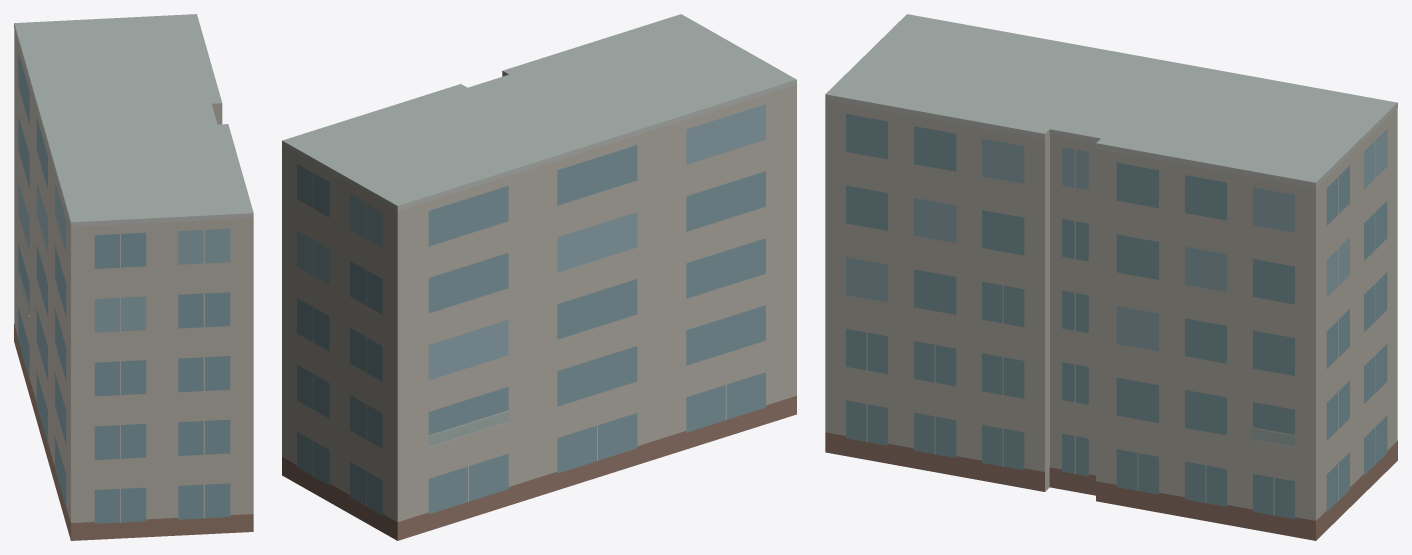
Rendered from survey-upis-32656820.glb.
The picture shows the model from 3 angles, left to right: view 1: azimuth 30°, elevation 25°; view 2: azimuth 150°, elevation 25°; view 3: azimuth 270°, elevation 25°; orthographic projection. The views are drawn at different scales.
Visible parts, largest first — view 1: survey-upis-32656820.tmp; view 2: survey-upis-32656820.tmp; view 3: survey-upis-32656820.tmp.
Part boxes in pixels (x1=…): survey-upis-32656820.tmp: x1=14, y1=14, x2=253, y2=540; survey-upis-32656820.tmp: x1=282, y1=14, x2=796, y2=540; survey-upis-32656820.tmp: x1=825, y1=14, x2=1397, y2=540.
Bounding box in the file's own units: 16.39 × 16.2 × 23.48.
